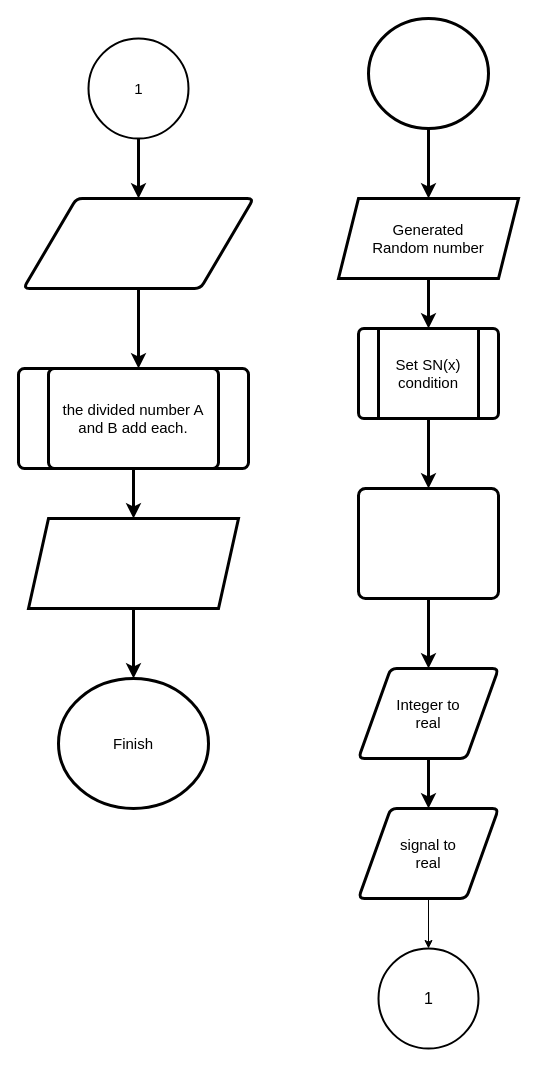
Image size: 537x1067. Some labels were removed from this diagram. Each missing label, with the centre of its shape:
According to SN(x) condition rounding value.: the point at 133,563
Generate denominator: the point at 428,543
signed num divider denominator: the point at 138,243
Start: the point at 428,73
